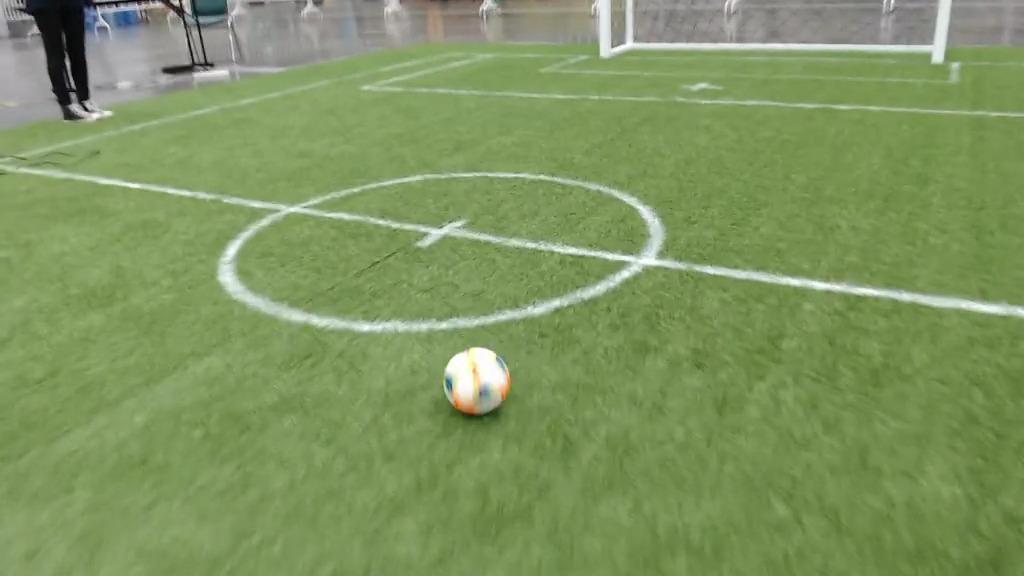ball: (441, 347, 510, 416)
